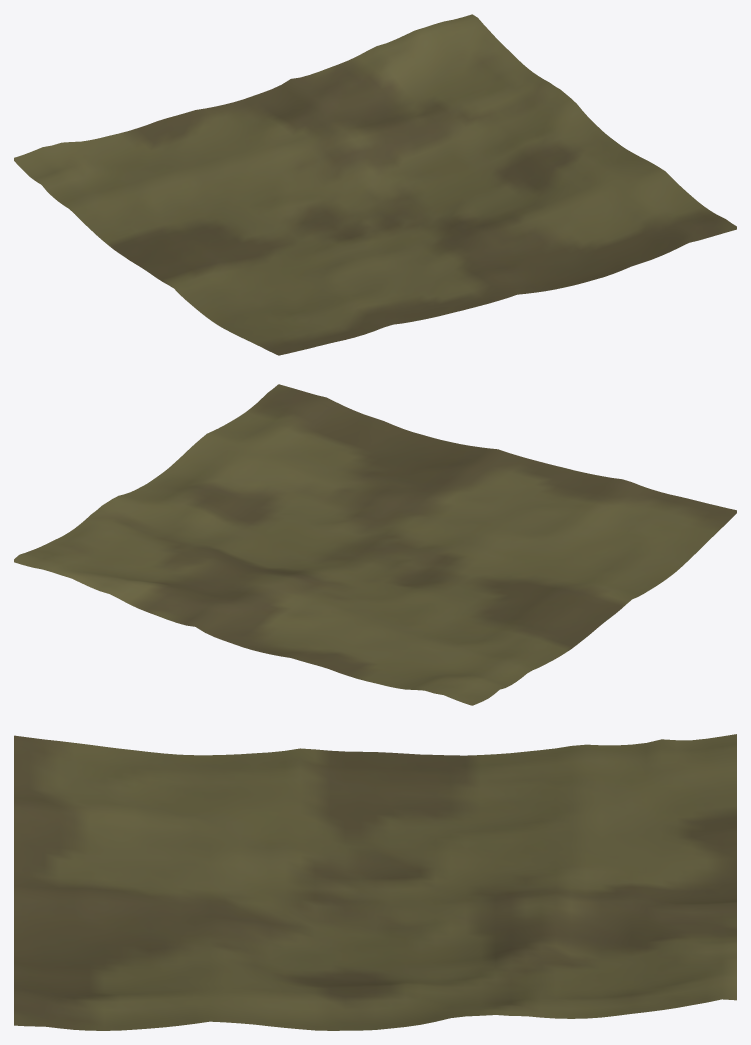
The model's file is land_m_09_00.glb.
3 views of the same model, one above another, from view 1: azimuth 30°, elevation 25°; view 2: azimuth 150°, elevation 25°; view 3: azimuth 270°, elevation 25° (orthographic). The views are drawn at different scales.
Visible parts, largest first — view 1: land_m_09_00; view 2: land_m_09_00; view 3: land_m_09_00.
Boxes of the visible parts, x1,y1,x2,y2 form: land_m_09_00: (14, 14, 736, 355); land_m_09_00: (14, 384, 736, 705); land_m_09_00: (14, 734, 736, 1030).
Size of the model in its own units: 960 by 102 by 960.
